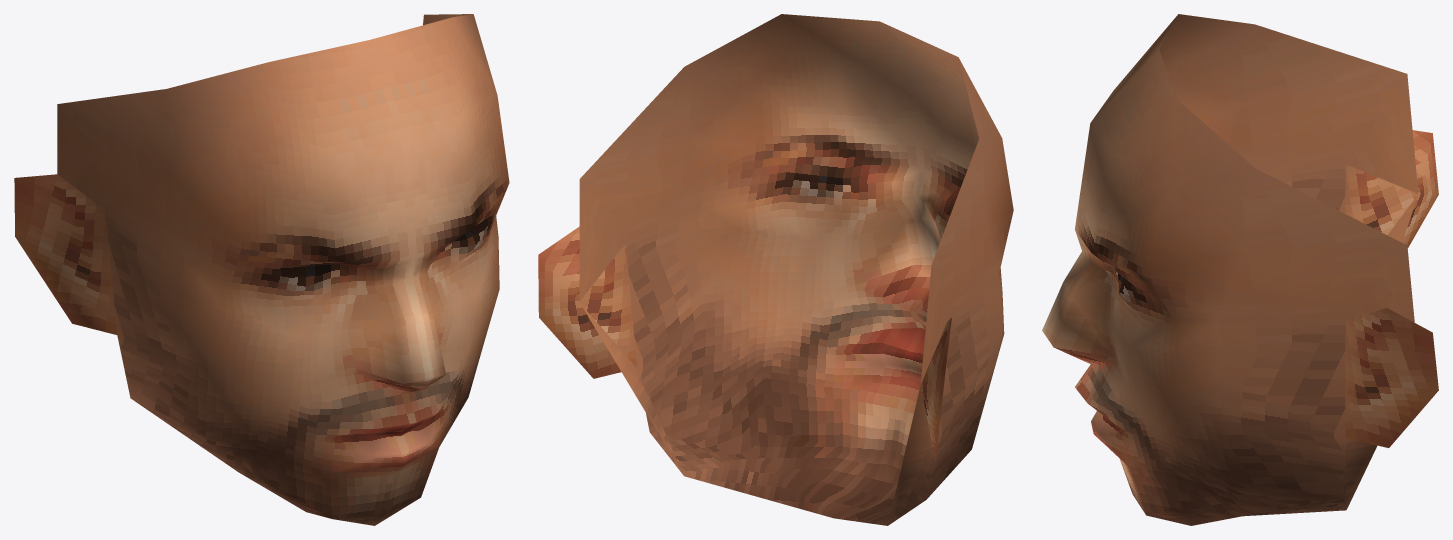
3 renders of one model, left to right at view 1: azimuth 30°, elevation 25°; view 2: azimuth 150°, elevation 25°; view 3: azimuth 270°, elevation 25°, orthographic. The views are drawn at different scales.
Parts seen in each view (by area): view 1: editpl_m-0000-156, editpl_m-0000-155; view 2: editpl_m-0000-156, editpl_m-0000-155; view 3: editpl_m-0000-156, editpl_m-0000-155.
Boxes of the visible parts, box(x1,y1,x2,y2) form: editpl_m-0000-156: box(14, 14, 509, 400); editpl_m-0000-155: box(117, 335, 484, 525); editpl_m-0000-156: box(538, 14, 1013, 461); editpl_m-0000-155: box(580, 265, 989, 525); editpl_m-0000-156: box(1042, 14, 1438, 447); editpl_m-0000-155: box(1054, 195, 1417, 525).
Size of the model in its own units: 17.18 by 18.85 by 14.45.
Materials: 1 (1 with a texture image).
